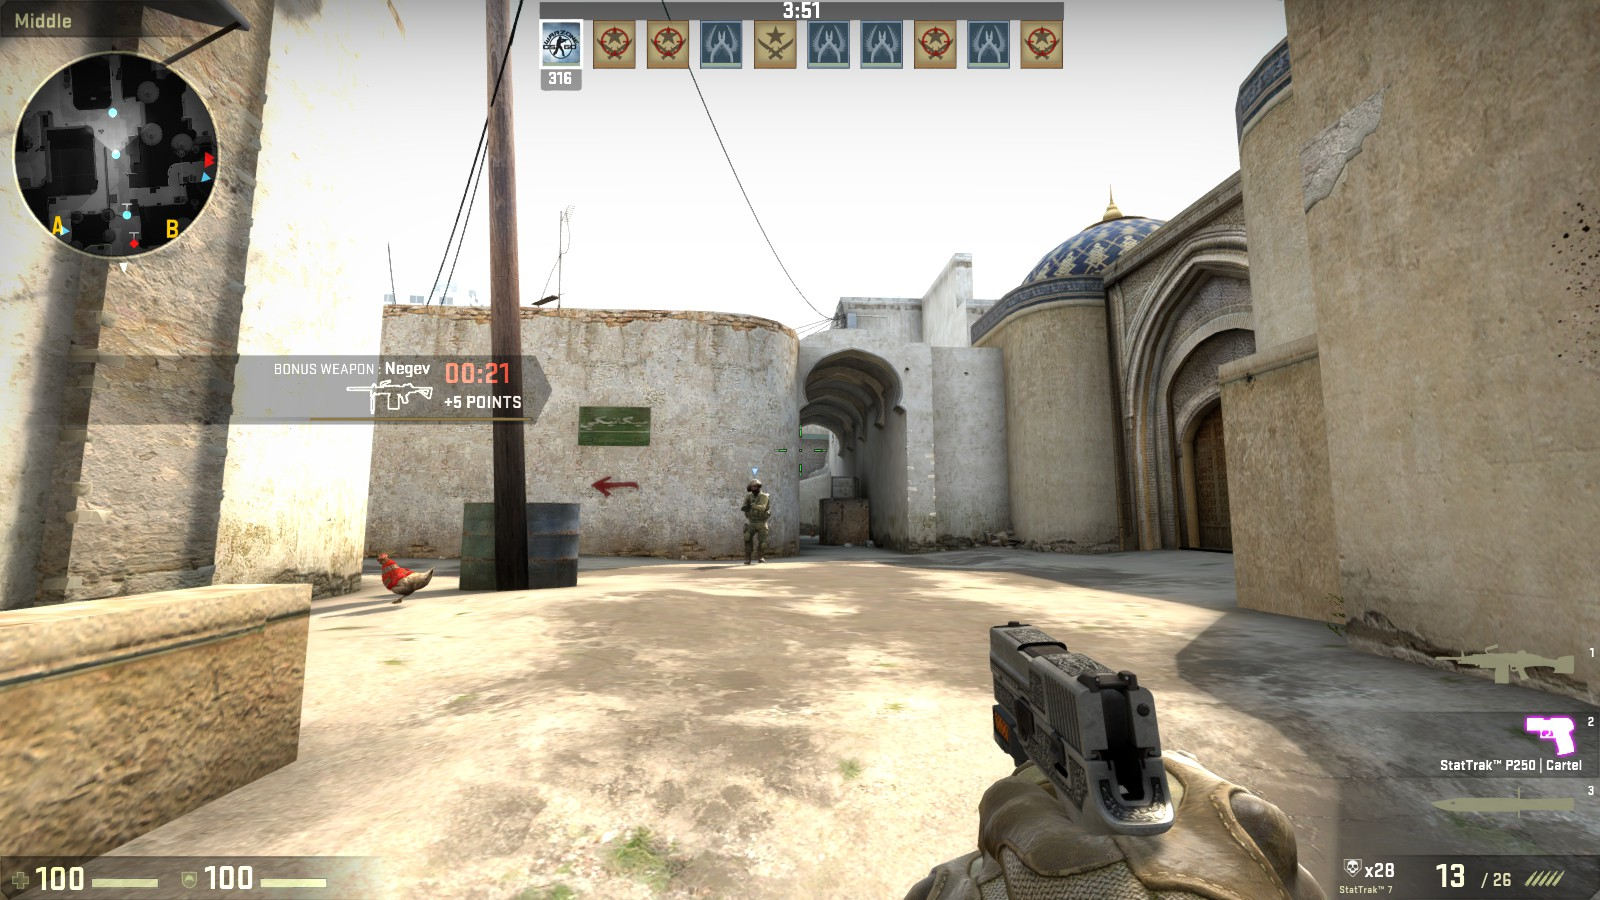c: (741, 478, 773, 564)
ch: (748, 478, 763, 495)
